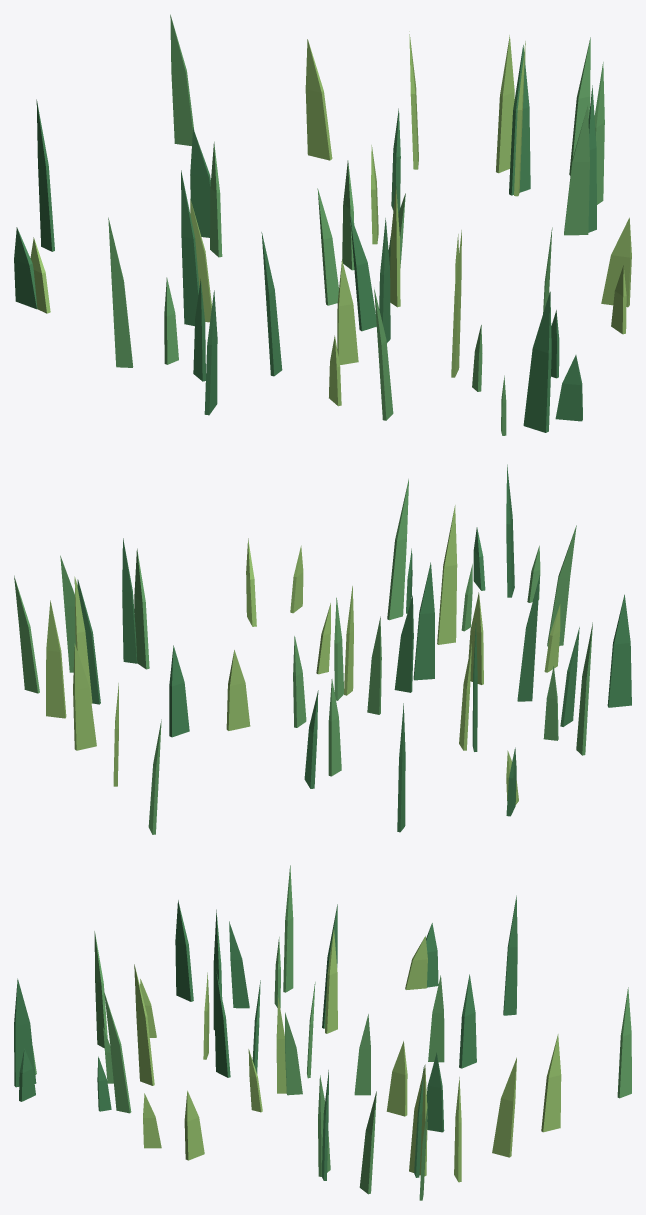
File: grass_meadow_a.glb
3 renders of one model, top to bottom at view 1: azimuth 30°, elevation 25°; view 2: azimuth 150°, elevation 25°; view 3: azimuth 270°, elevation 25°, orthographic. The views are drawn at different scales.
Parts seen in each view (by area): view 1: Meadow_1, Meadow_2, Meadow_3; view 2: Meadow_1, Meadow_2, Meadow_3; view 3: Meadow_1, Meadow_3, Meadow_2.
Part boxes in pixels (x1,y1,x2,y2): Meadow_1: (14, 45, 596, 432); Meadow_2: (108, 14, 604, 435); Meadow_3: (30, 31, 631, 406); Meadow_1: (77, 464, 631, 832); Meadow_2: (14, 479, 592, 834); Meadow_3: (46, 505, 560, 804); Meadow_1: (14, 895, 517, 1180); Meadow_3: (134, 929, 561, 1182); Meadow_2: (32, 865, 631, 1200).
Bounding box in the file's own units: 2.04 × 0.5234 × 2.42.
